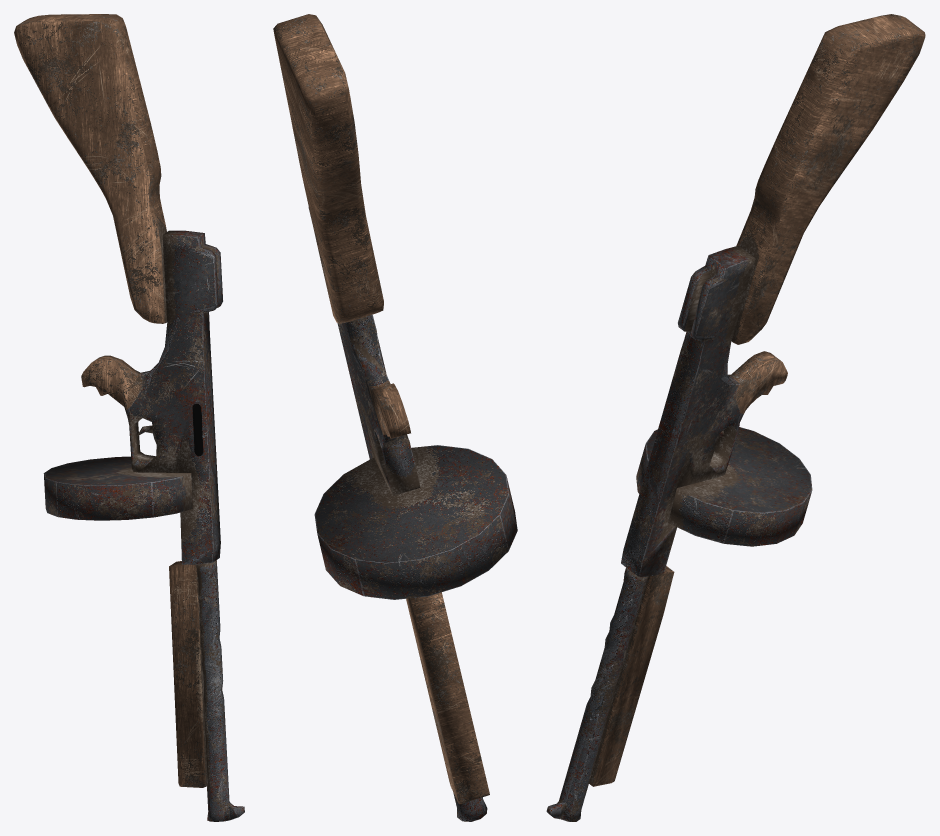
Rendered from Anim_idle_ametralladora_objetos.0046.obj.
The picture shows the model from 3 angles, left to right: view 1: azimuth 30°, elevation 25°; view 2: azimuth 150°, elevation 25°; view 3: azimuth 270°, elevation 25°; orthographic projection. The views are drawn at different scales.
Visible parts, largest first — view 1: Ametralladora1; view 2: Ametralladora1; view 3: Ametralladora1.
Part boxes in pixels (bbox=[...]): Ametralladora1: bbox=[14, 14, 244, 821]; Ametralladora1: bbox=[273, 14, 517, 821]; Ametralladora1: bbox=[546, 14, 925, 821].
Bounding box in the file's own units: 1.36 × 5.79 × 2.51.
